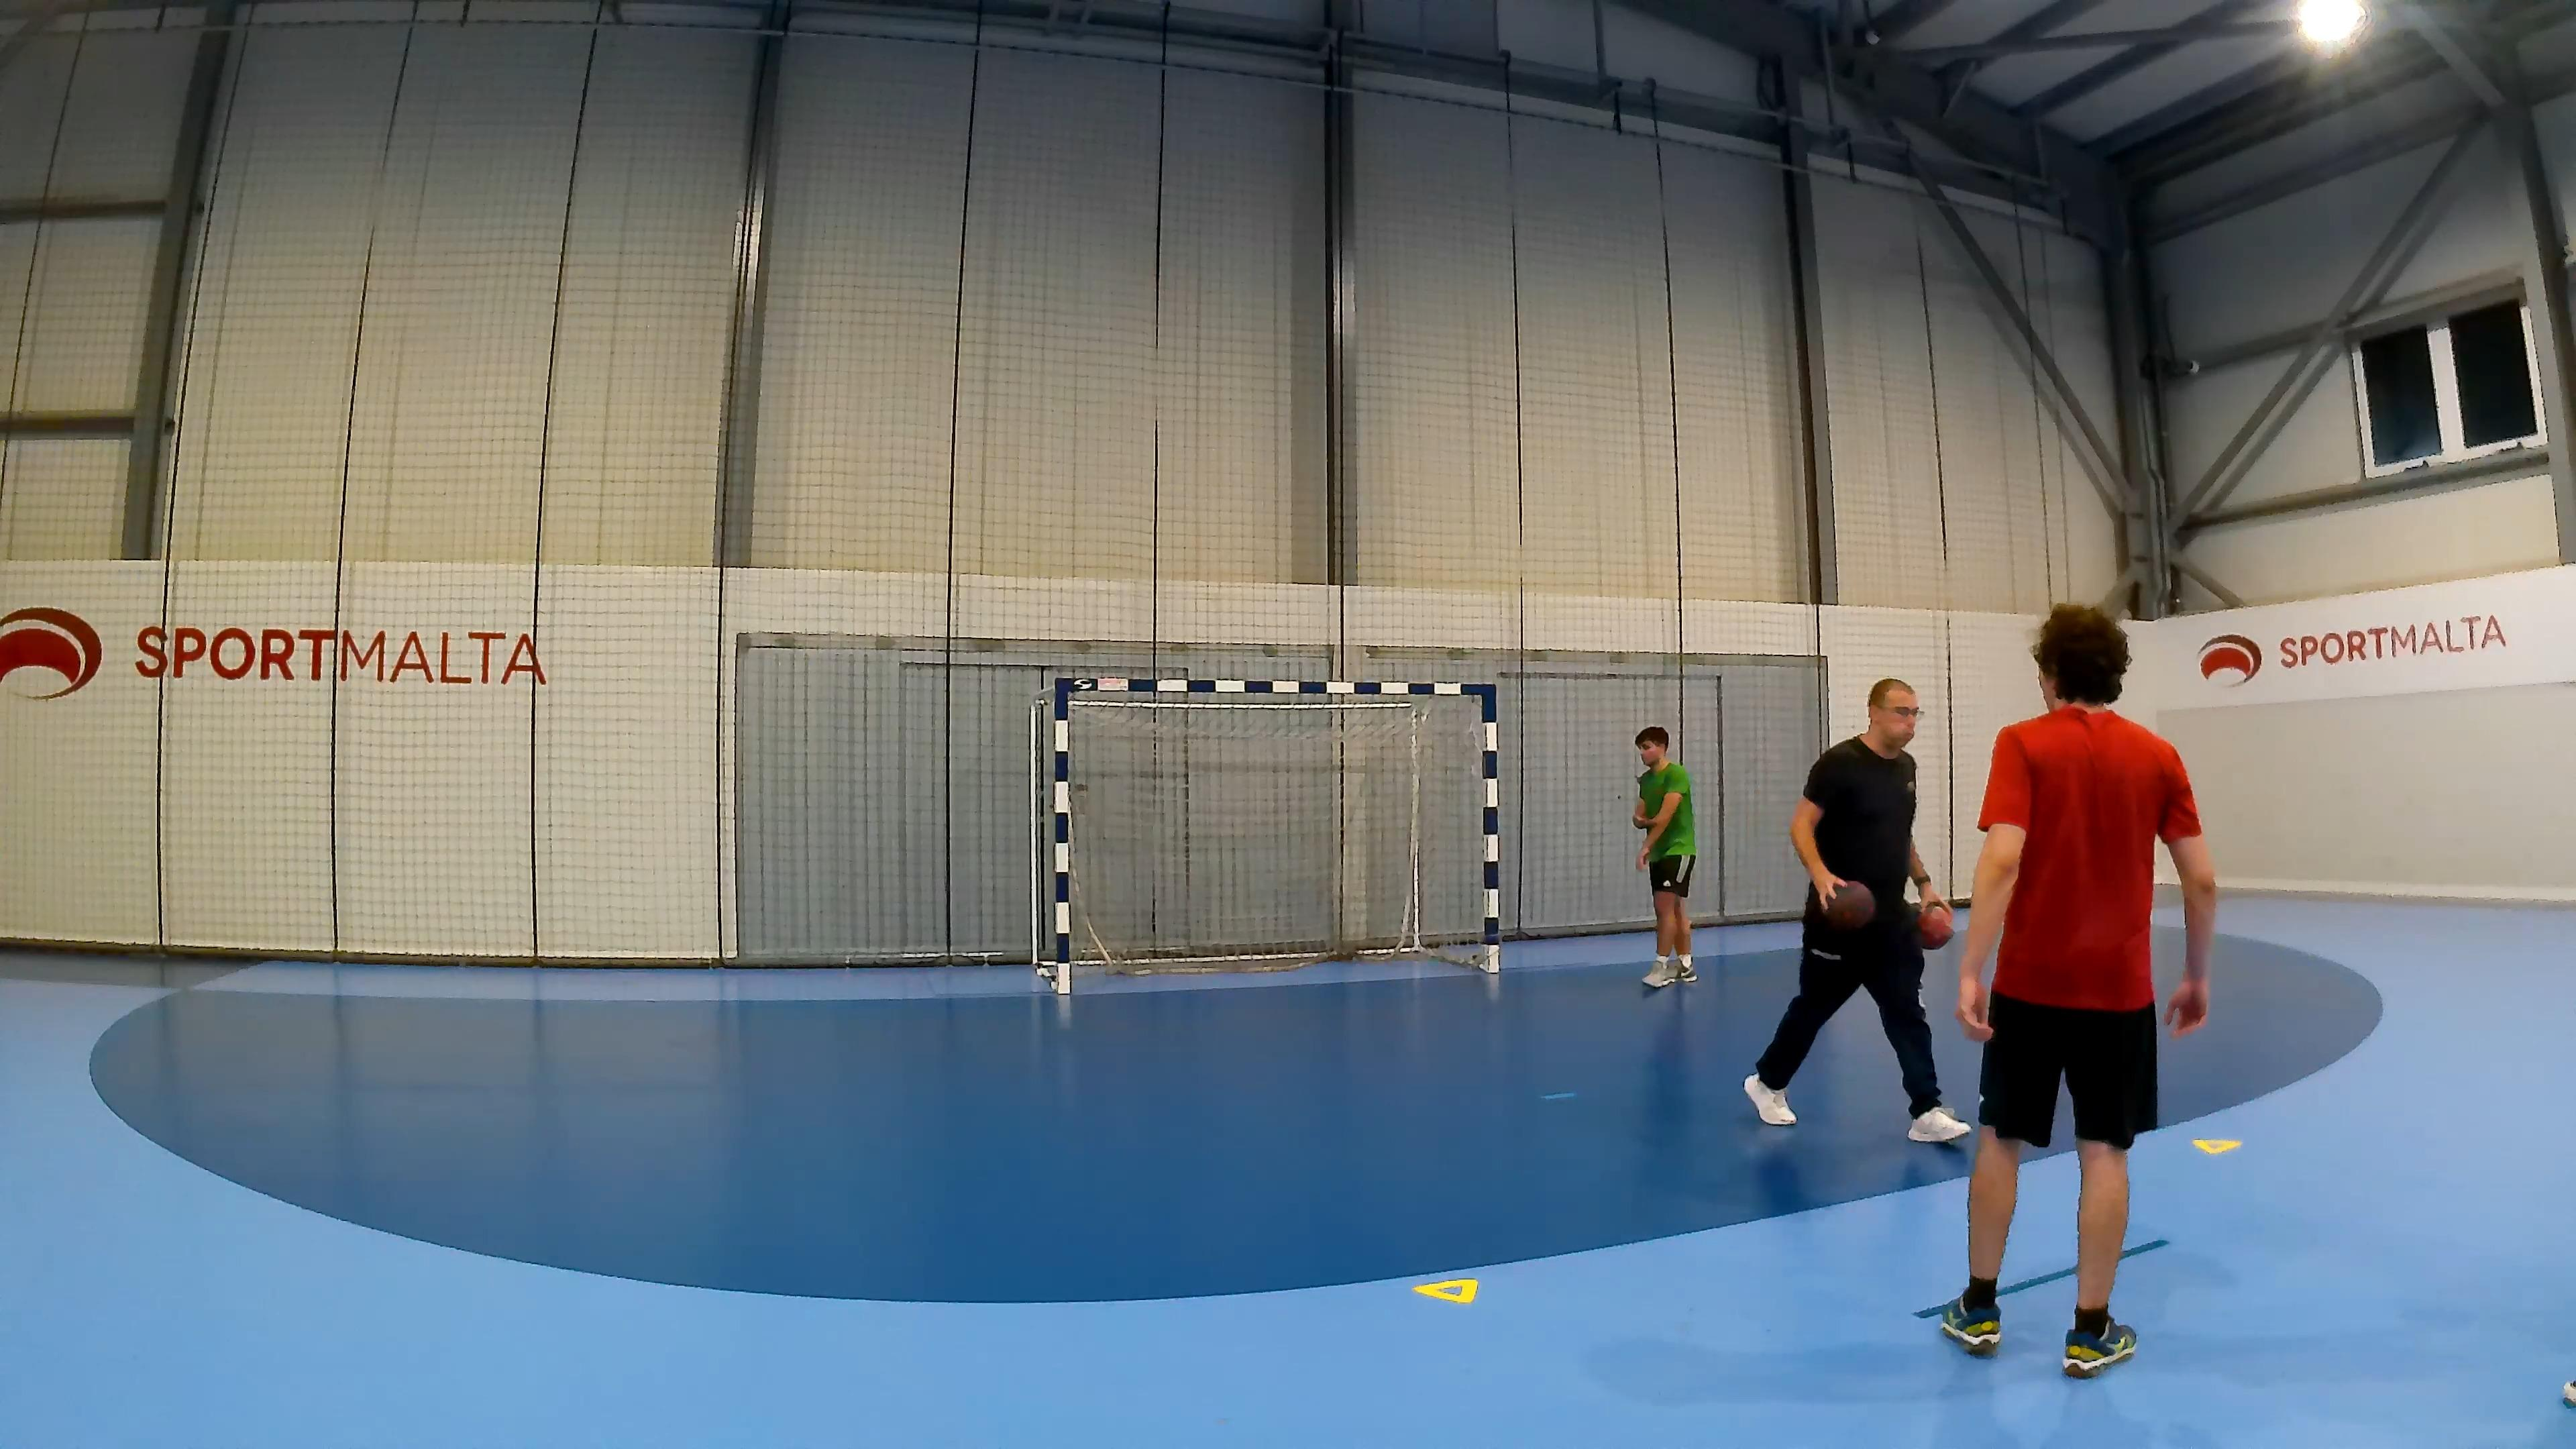handball: (1821, 879, 1875, 931), (1916, 897, 1953, 950)
